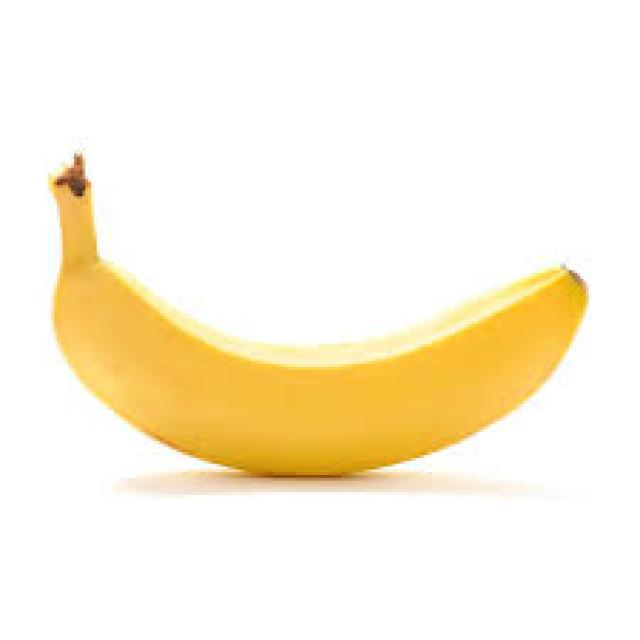non_orange: (45, 149, 595, 484)
